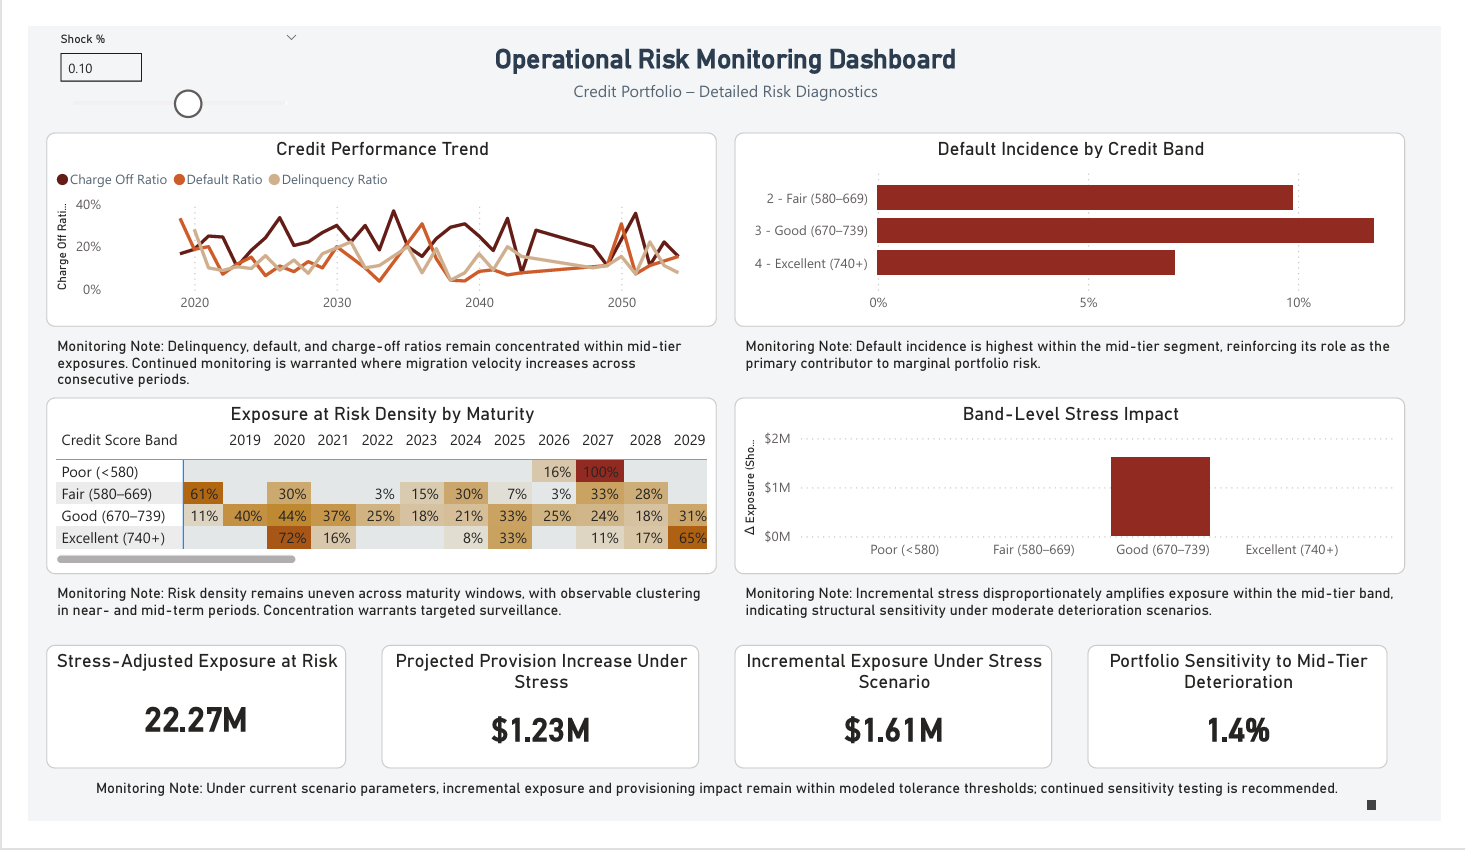

Layout of this report page (visuals, bound fields, positions):
{"tool":"powerbi","page":{"name":"OPERATIONAL DASHBOARD","canvas":[1280,720],"ordinal":1},"visuals":[{"type":"textbox","title":"Operational Risk Monitoring Dashboard","box":[352,0,912,80],"z":0},{"type":"lineChart","title":"Delinquency & Default Trend","fields":{"Category":["Date_Maturity.Maturity Year"],"Y":["zz_Measures.Charge Off Ratio","zz_Measures.Default Ratio","zz_Measures.Delinquency Ratio"]},"box":[16,96,608,176],"z":1},{"type":"clusteredBarChart","title":"Default Rate by Credit Band","fields":{"Category":["loans.Credit Score Band (Ordered)"],"Y":["zz_Measures.Default Rate"]},"box":[640,96,608,176],"z":2},{"type":"pivotTable","title":"Exposure at Risk Density by Maturity","fields":{"Rows":["loans.Credit Score Band"],"Columns":["Date_Maturity.Maturity Year"],"Values":["zz_Measures.Exposure at Risk %"]},"box":[0,336,608,160],"z":3},{"type":"slicer","fields":{"Values":["Shock %.Shock %"]},"box":[16,0,240,96],"z":4},{"type":"card","title":"Stress-Adjusted Exposure at Risk","fields":{"Values":["zz_Measures.Exposure at Risk (Shocked – Good Band Only)"]},"box":[16,560,272,112],"z":5},{"type":"card","title":"Incremental Exposure Under Stress Scenario","fields":{"Values":["zz_Measures.Δ Exposure (Shock Impact – Good Only)"]},"box":[640,560,288,112],"z":6},{"type":"card","title":"Projected Provision Increase Under Stress","fields":{"Values":["zz_Measures.Provision Impact from Shock"]},"box":[320,560,288,112],"z":7},{"type":"card","title":"Portfolio Sensitivity to Mid-Tier Deterioration","fields":{"Values":["zz_Measures.Shock Impact % of Portfolio"]},"box":[960,560,272,112],"z":8},{"type":"columnChart","title":"Band-Level Stress Impact","fields":{"Y":["zz_Measures.Δ Exposure (Shock Impact – Good Only)"],"Category":["loans.Credit Score Band"]},"box":[640,336,608,160],"z":9},{"type":"textbox","title":"Monitoring Note: Delinquency, default, and charge-off ratios remain concentrated within mid-tier exposures. Continued monitoring is warranted where migration velocity increases across consecutive peri","box":[16,272,608,96],"z":10},{"type":"textbox","title":"Monitoring Note: Default incidence is highest within the mid-tier segment, reinforcing its role as the primary contributor to marginal portfolio risk.","box":[640,272,608,80],"z":11},{"type":"textbox","title":"Monitoring Note: Risk density remains uneven across maturity windows, with observable clustering in near- and mid-term periods. Concentration warrants targeted surveillance.","box":[16,496,608,80],"z":12},{"type":"textbox","title":"Monitoring Note: Incremental stress disproportionately amplifies exposure within the mid-tier band, indicating structural sensitivity under moderate deterioration scenarios.","box":[640,496,608,80],"z":13},{"type":"textbox","title":"Monitoring Note: Under current scenario parameters, incremental exposure and provisioning impact remain within modeled tolerance thresholds; continued sensitivity testing is recommended.","box":[16,672,1216,48],"z":14}]}

Visuals, with their boxes on the page's 1280x720 design canvas (x1, y1, x2, y2). These are canvas units, not pixel positions in the 1465x850 screenshot, which may show the page scaled, cropped or inside an application window:
"Operational Risk Monitoring Dashboard" textbox: locate(352, 0, 1264, 80)
"Delinquency & Default Trend" lineChart: locate(16, 96, 624, 272)
"Default Rate by Credit Band" clusteredBarChart: locate(640, 96, 1248, 272)
"Exposure at Risk Density by Maturity" pivotTable: locate(0, 336, 608, 496)
slicer - Shock %.Shock %: locate(16, 0, 256, 96)
"Stress-Adjusted Exposure at Risk" card: locate(16, 560, 288, 672)
"Incremental Exposure Under Stress Scenario" card: locate(640, 560, 928, 672)
"Projected Provision Increase Under Stress" card: locate(320, 560, 608, 672)
"Portfolio Sensitivity to Mid-Tier Deterioration" card: locate(960, 560, 1232, 672)
"Band-Level Stress Impact" columnChart: locate(640, 336, 1248, 496)
"Monitoring Note: Delinquency, default, and charge-off ratios remain concentrated within mid-tier exposures. Continued monitoring is warranted where migration velocity increases across consecutive peri" textbox: locate(16, 272, 624, 368)
"Monitoring Note: Default incidence is highest within the mid-tier segment, reinforcing its role as the primary contributor to marginal portfolio risk." textbox: locate(640, 272, 1248, 352)
"Monitoring Note: Risk density remains uneven across maturity windows, with observable clustering in near- and mid-term periods. Concentration warrants targeted surveillance." textbox: locate(16, 496, 624, 576)
"Monitoring Note: Incremental stress disproportionately amplifies exposure within the mid-tier band, indicating structural sensitivity under moderate deterioration scenarios." textbox: locate(640, 496, 1248, 576)
"Monitoring Note: Under current scenario parameters, incremental exposure and provisioning impact remain within modeled tolerance thresholds; continued sensitivity testing is recommended." textbox: locate(16, 672, 1232, 720)
